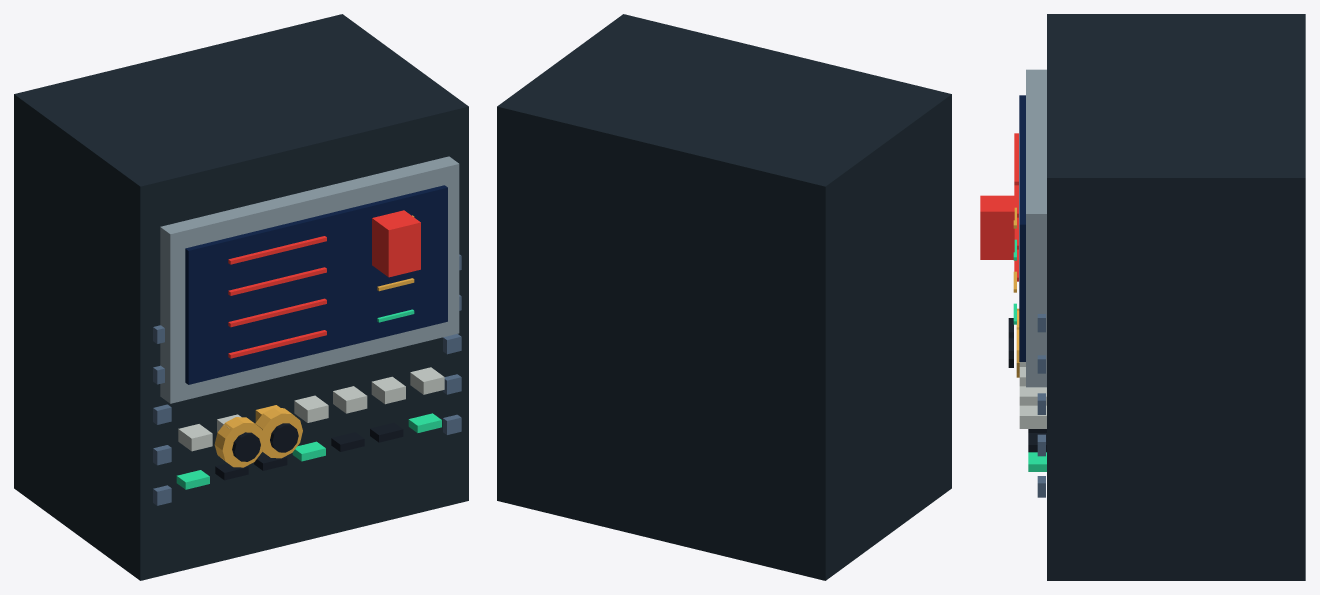
Rendered from 74_L84_EmergencyAttitudeStopStation.fbx.
The picture shows the model from 3 angles, left to right: view 1: azimuth 30°, elevation 25°; view 2: azimuth 150°, elevation 25°; view 3: azimuth 270°, elevation 25°; orthographic projection. The views are drawn at different scales.
Visible parts, largest first — view 1: L84_EmergencyAttitudeStopStation, L84_EmergencyAttitudeStopStation_Part_0010, L84_EmergencyAttitudeStopStation_Part_0012, L84_EmergencyAttitudeStopStation_Part_0011, L84_EmergencyAttitudeStopStation_Part_0013; view 2: L84_EmergencyAttitudeStopStation; view 3: L84_EmergencyAttitudeStopStation.
Boxes of the visible parts, box(x1,y1,x2,y2) form: L84_EmergencyAttitudeStopStation: box(14, 14, 468, 580); L84_EmergencyAttitudeStopStation_Part_0010: box(214, 417, 264, 467); L84_EmergencyAttitudeStopStation_Part_0012: box(255, 408, 302, 458); L84_EmergencyAttitudeStopStation_Part_0011: box(232, 432, 260, 461); L84_EmergencyAttitudeStopStation_Part_0013: box(270, 423, 298, 452); L84_EmergencyAttitudeStopStation: box(497, 14, 951, 580); L84_EmergencyAttitudeStopStation: box(980, 14, 1305, 580).
Size of the model in its own units: 99.96 by 115 by 83.79.
